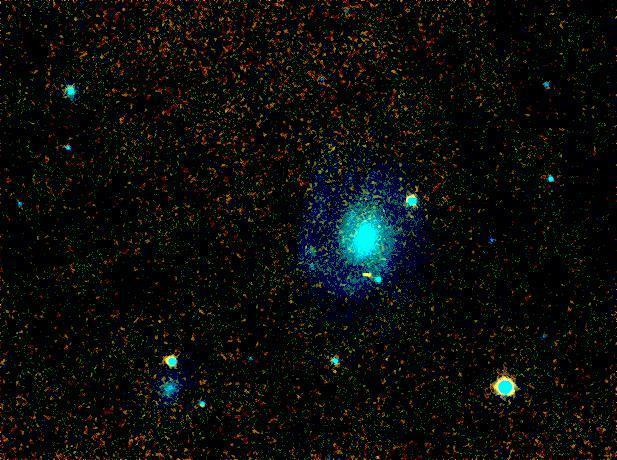star: (362, 262, 392, 292)
